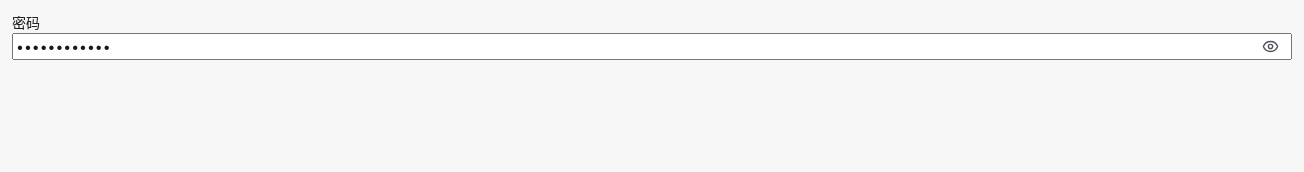
it: password box: hidden by default, the button shows and hides it, and the button is disabled too when the box is disabled
Later steps or results of the test are not shown.
Click the button named "显示密码" at point(1270, 46), box [1248,33,1292,60]
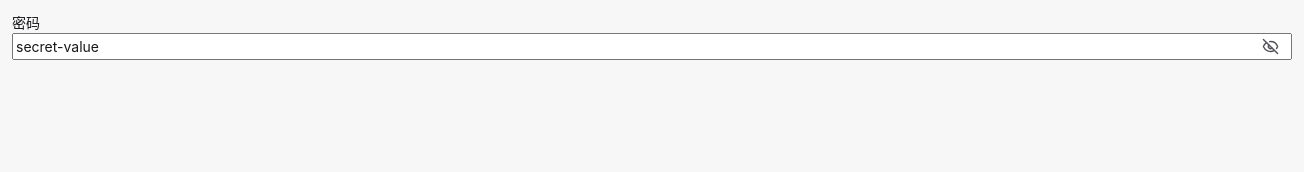
Expected: the button named "隐藏密码" is pressed, [1248,33,1292,60]
